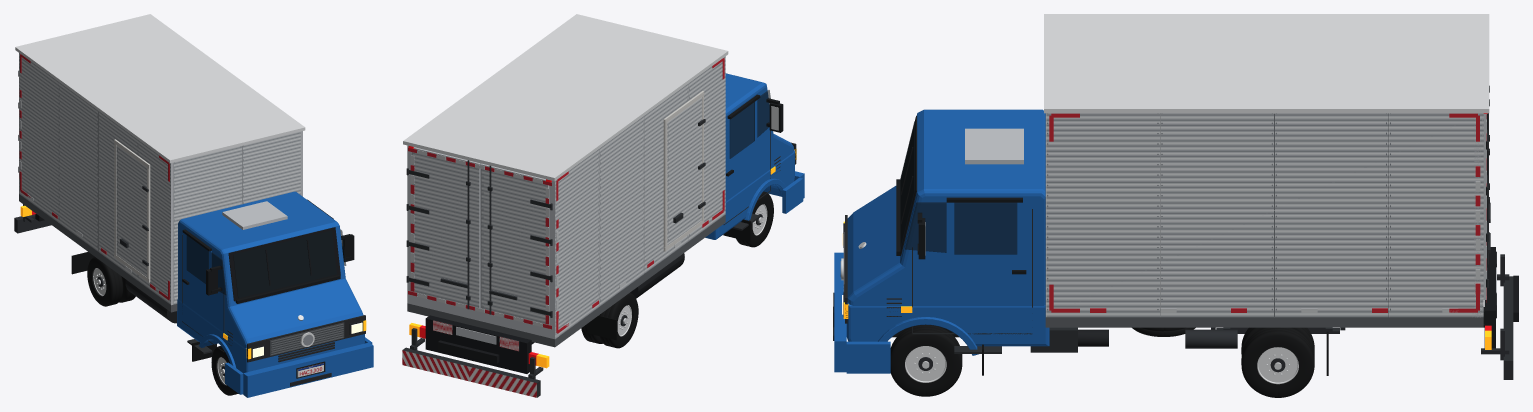
File: mb_710_hac.glb
3 views of the same model, side by side, from view 1: azimuth 30°, elevation 25°; view 2: azimuth 150°, elevation 25°; view 3: azimuth 270°, elevation 25° (orthographic). The views are drawn at different scales.
Visible parts, largest first — view 1: Roof, Side_Panel, Cab_Body, Front_Wall, Windshield_Frame, Windshield, Side_Door, Front_Bumper, Cab_Skirt, Tire (×2), Floor_Frame, Roof_Vent (+9 smaller); view 2: Roof, Side_Panel, Rear_Door (×2), Cab_Body, Side_Door, Rear_Underride_Bar, Floor_Frame, Rear_Panel, Cab_Skirt, Rear_Post (×2), Tire (×2), Door_Glass (×2) (+9 smaller); view 3: Side_Panel, Roof, Cab_Body, Tire (×2), Cab_Skirt, Door_Glass (×2), Floor_Frame, Roof_Vent, Rim_Barrel (×2), Bumper_Wing, Front_Bumper, Windshield_Frame (+7 smaller).
Part boxes in pixels (x1,y1,x2,y2): Roof: (15,14,305,163); Side_Panel: (19,53,173,305); Cab_Body: (178,191,363,347); Front_Wall: (173,131,300,304); Windshield_Frame: (228,227,340,301); Windshield: (233,230,336,298); Side_Door: (116,145,146,276); Front_Bumper: (243,342,373,397); Cab_Skirt: (177,299,364,373); Tire (×2): (87,257,238,395); Floor_Frame: (19,194,177,312); Roof_Vent: (222,201,287,229); Roof: (403,14,728,181); Side_Panel: (552,56,725,338); Rear_Door (×2): (412,147,549,326); Cab_Body: (725,73,793,201); Side_Door: (667,97,701,245); Rear_Underride_Bar: (402,347,540,397); Floor_Frame: (407,215,725,347); Rear_Panel: (425,315,531,373); Cab_Skirt: (705,150,794,239); Rear_Post (×2): (407,146,558,338); Tire (×2): (599,191,773,348); Door_Glass (×2): (729,90,770,158); Side_Panel: (1045,113,1483,317); Roof: (1044,14,1489,113); Cab_Body: (847,109,1045,305); Tire (×2): (890,324,1314,397); Cab_Skirt: (846,302,1049,346); Door_Glass (×2): (905,202,1017,254); Floor_Frame: (1045,317,1483,327); Roof_Vent: (965,128,1023,164); Rim_Barrel (×2): (906,346,1297,382); Bumper_Wing: (846,341,890,373); Front_Bumper: (834,252,846,372); Windshield_Frame: (900,116,916,254).
Size of the model in its own units: 2.55 by 3.45 by 7.2.
44 materials, 3 textured.
